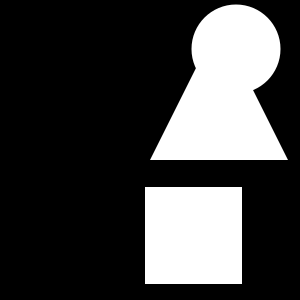circle: (145, 187, 242, 284), (225, 214, 233, 222)
rectangle: (192, 4, 280, 94)
triangle: (150, 22, 288, 160)
